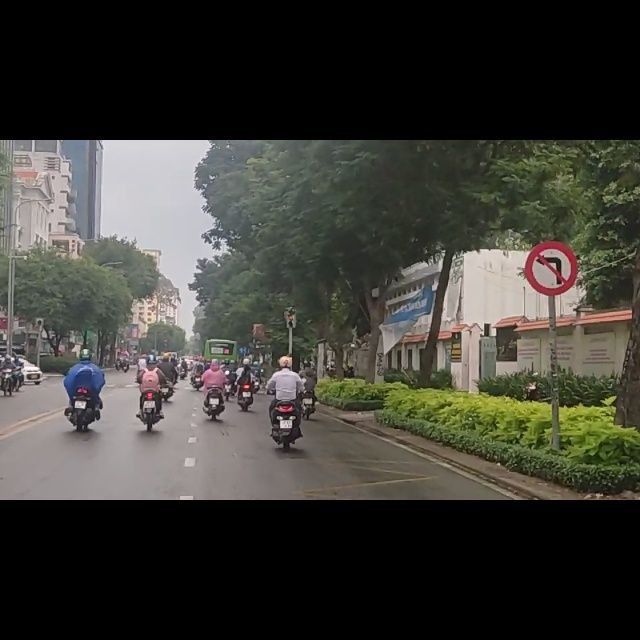bien_cam: (522, 178, 578, 282)
